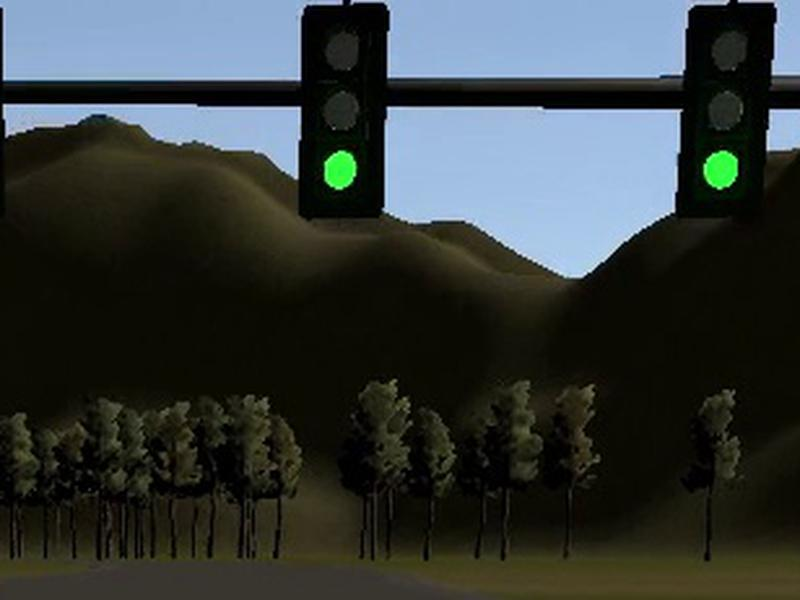Green: (676, 2, 776, 217), (299, 3, 390, 217)
